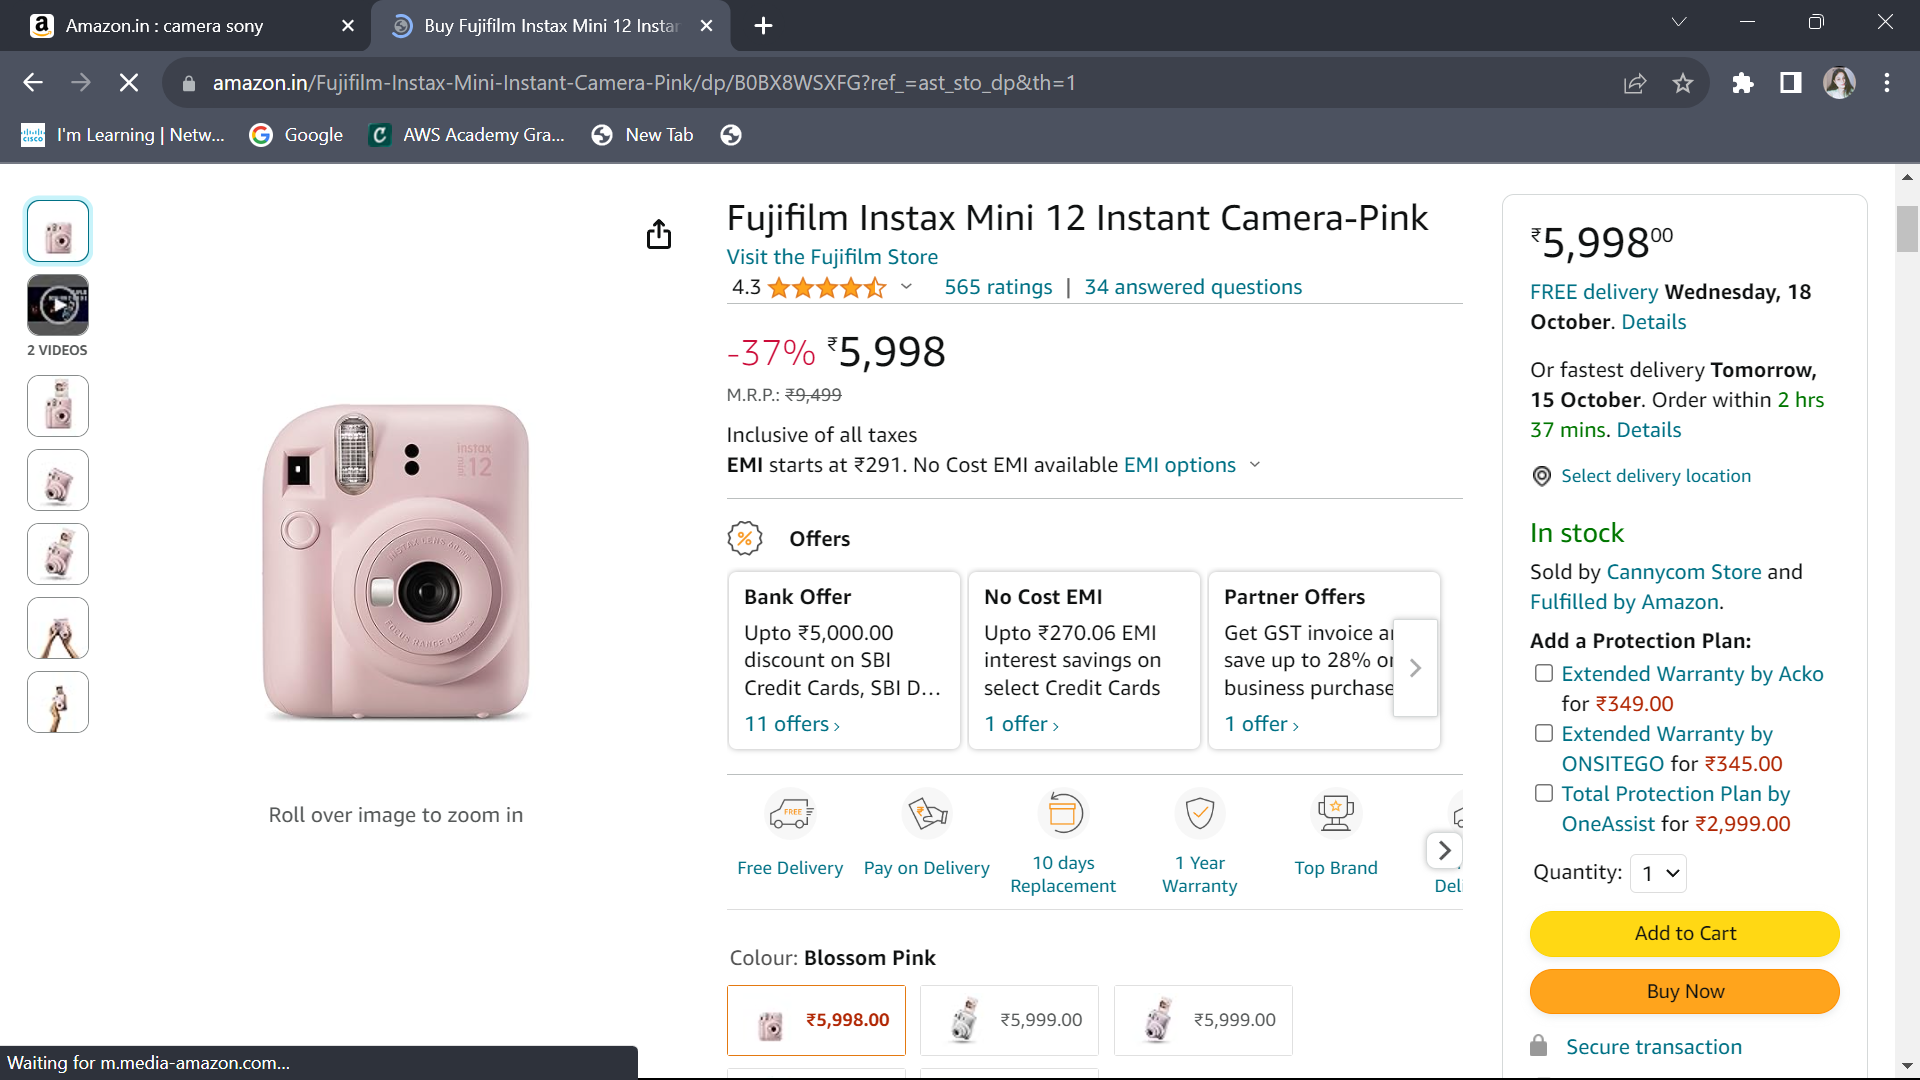Image: (185, 310, 585, 756), (716, 973, 1344, 1060), (1532, 907, 1870, 1027)
Paragraph: (704, 520, 1487, 767), (1532, 517, 1837, 845), (723, 326, 1245, 501), (1523, 274, 1837, 436), (723, 177, 1457, 233), (704, 245, 1325, 295), (245, 789, 579, 860), (1523, 196, 1710, 269), (1532, 848, 1720, 902), (735, 836, 845, 916), (1162, 845, 1249, 919), (1009, 848, 1126, 902), (869, 839, 980, 893), (1290, 857, 1386, 899), (1556, 465, 1797, 477)
